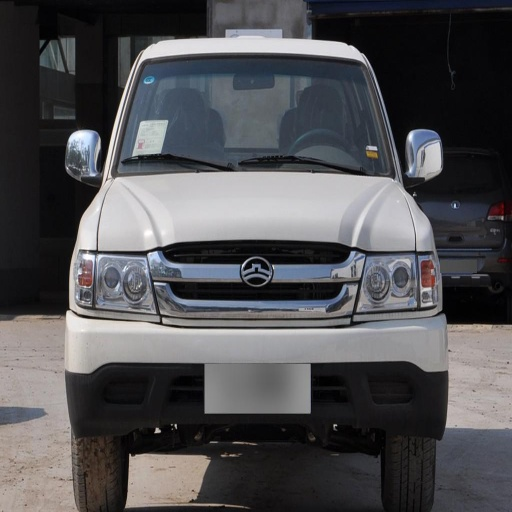front_bumper: (67, 243, 446, 444)
front_right_light: (73, 248, 160, 321)
hood: (98, 172, 416, 250)
left_mirror: (403, 129, 442, 187)
